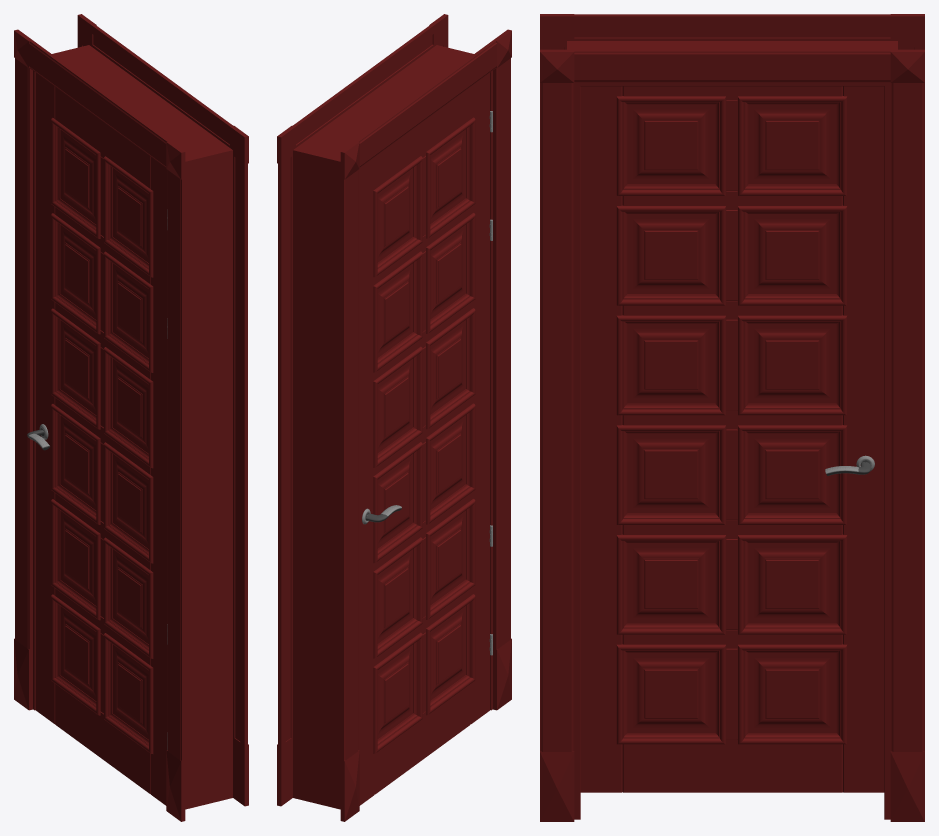
Rendered from uploads_files_2182808_RED+DOOR.FBX.
3 views of the same model, side by side, from view 1: azimuth 30°, elevation 25°; view 2: azimuth 150°, elevation 25°; view 3: azimuth 270°, elevation 25° (orthographic). The views are drawn at different scales.
Parts seen in each view (by area): view 1: Line210, Box033, Box034, Line208, Line207, Line209, Line206, Rectangle2061, Rectangle2065, Rectangle2073, Rectangle2052, Rectangle2069 (+24 smaller); view 2: Line210, Box033, Box034, Line207, Line208, Line209, Line206, Rectangle2065, Rectangle2052, Rectangle2069, Rectangle2073, Rectangle3119 (+24 smaller); view 3: Box034, Line208, Line207, Line210, Line209, Box033, Rectangle2052, Rectangle2059, Rectangle2063, Rectangle2065, Rectangle2067, Rectangle2073 (+30 smaller).
Boxes of the visible parts, x1=… form: Line210: x1=33, y1=45, x2=232, y2=809; Box033: x1=14, y1=29, x2=185, y2=821; Box034: x1=77, y1=14, x2=248, y2=806; Line208: x1=35, y1=73, x2=55, y2=723; Line207: x1=151, y1=157, x2=167, y2=805; Line209: x1=55, y1=684, x2=150, y2=794; Line206: x1=55, y1=87, x2=150, y2=188; Rectangle2061: x1=60, y1=415, x2=96, y2=510; Rectangle2065: x1=60, y1=320, x2=96, y2=414; Rectangle2073: x1=60, y1=129, x2=96, y2=224; Rectangle2052: x1=60, y1=606, x2=96, y2=700; Rectangle2069: x1=60, y1=225, x2=96, y2=319; Line210: x1=293, y1=45, x2=492, y2=809; Box033: x1=340, y1=29, x2=511, y2=821; Box034: x1=277, y1=14, x2=448, y2=806; Line207: x1=470, y1=73, x2=489, y2=724; Line208: x1=358, y1=157, x2=374, y2=805; Line209: x1=374, y1=684, x2=470, y2=794; Line206: x1=374, y1=87, x2=470, y2=189; Rectangle2065: x1=377, y1=358, x2=413, y2=453; Rectangle2052: x1=377, y1=644, x2=413, y2=738; Rectangle2069: x1=377, y1=263, x2=413, y2=357; Rectangle2073: x1=377, y1=168, x2=413, y2=262; Rectangle3119: x1=377, y1=549, x2=413, y2=643; Box034: x1=540, y1=49, x2=924, y2=821; Line208: x1=843, y1=86, x2=884, y2=792; Line207: x1=580, y1=86, x2=622, y2=792; Line210: x1=567, y1=41, x2=897, y2=819; Line209: x1=622, y1=739, x2=842, y2=792; Box033: x1=540, y1=14, x2=924, y2=49; Rectangle2052: x1=748, y1=652, x2=836, y2=732; Rectangle2059: x1=627, y1=543, x2=715, y2=623; Rectangle2063: x1=627, y1=433, x2=715, y2=513; Rectangle2065: x1=748, y1=323, x2=836, y2=403; Rectangle2067: x1=627, y1=323, x2=715, y2=403; Rectangle2073: x1=748, y1=104, x2=836, y2=184.
Size of the model in its own units: 33.41 by 249 by 113.
